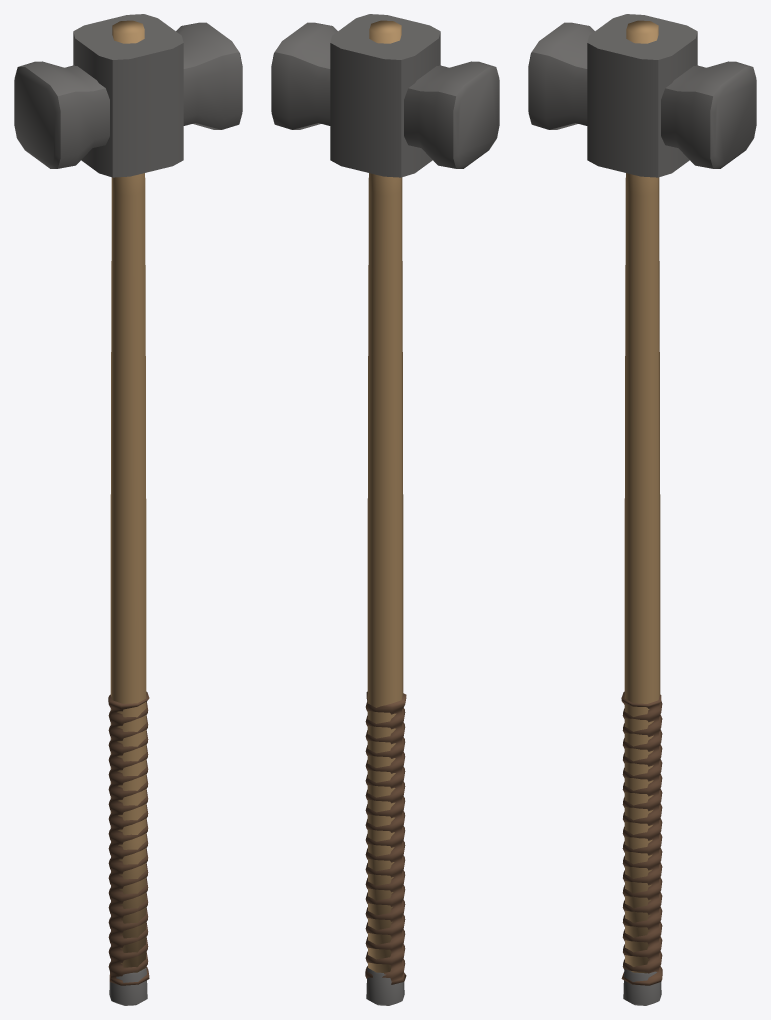
The model's file is earth-breaker.glb.
The picture shows the model from 3 angles, left to right: view 1: azimuth 30°, elevation 25°; view 2: azimuth 150°, elevation 25°; view 3: azimuth 330°, elevation 25°; orthographic projection.
Parts seen in each view (by area): view 1: earth-breaker; view 2: earth-breaker; view 3: earth-breaker.
Boxes of the visible parts, x1=… form: earth-breaker: x1=14, y1=14, x2=242, y2=1005; earth-breaker: x1=271, y1=14, x2=499, y2=1005; earth-breaker: x1=528, y1=14, x2=756, y2=1005.
Size of the model in its own units: 0.6 by 2.98 by 0.2611.
